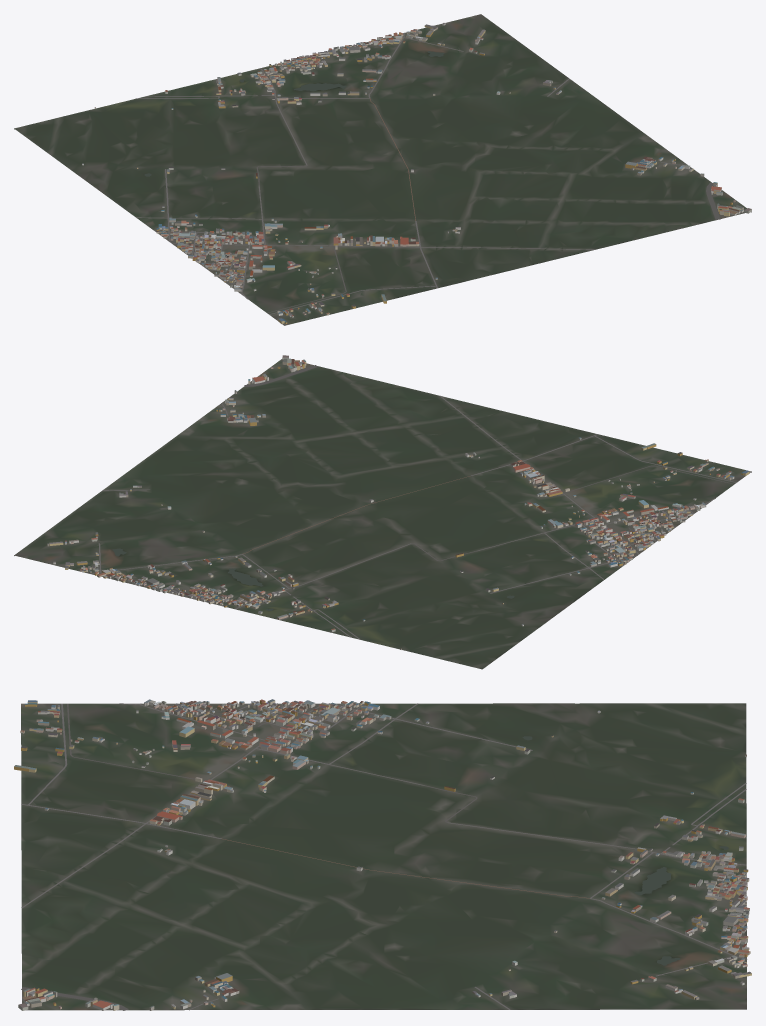
The picture shows the model from 3 angles, top to bottom: view 1: azimuth 30°, elevation 25°; view 2: azimuth 150°, elevation 25°; view 3: azimuth 270°, elevation 25°; orthographic projection. The views are drawn at different scales.
Parts seen in each view (by area): view 1: ground, buildings, roads; view 2: ground, buildings, roads; view 3: ground, buildings, roads, water.
Part boxes in pixels (box(x1,y1,x2,y2)): ground: box(14, 14, 751, 325); buildings: box(82, 23, 751, 323); roads: box(135, 33, 720, 314); ground: box(14, 359, 751, 669); buildings: box(47, 355, 749, 649); roads: box(91, 365, 736, 639); ground: box(21, 703, 746, 1010); buildings: box(14, 699, 751, 1010); roads: box(21, 703, 747, 1010); water: box(522, 736, 728, 965).
Bounding box in the file's own units: 1414 × 16.28 × 1427.
